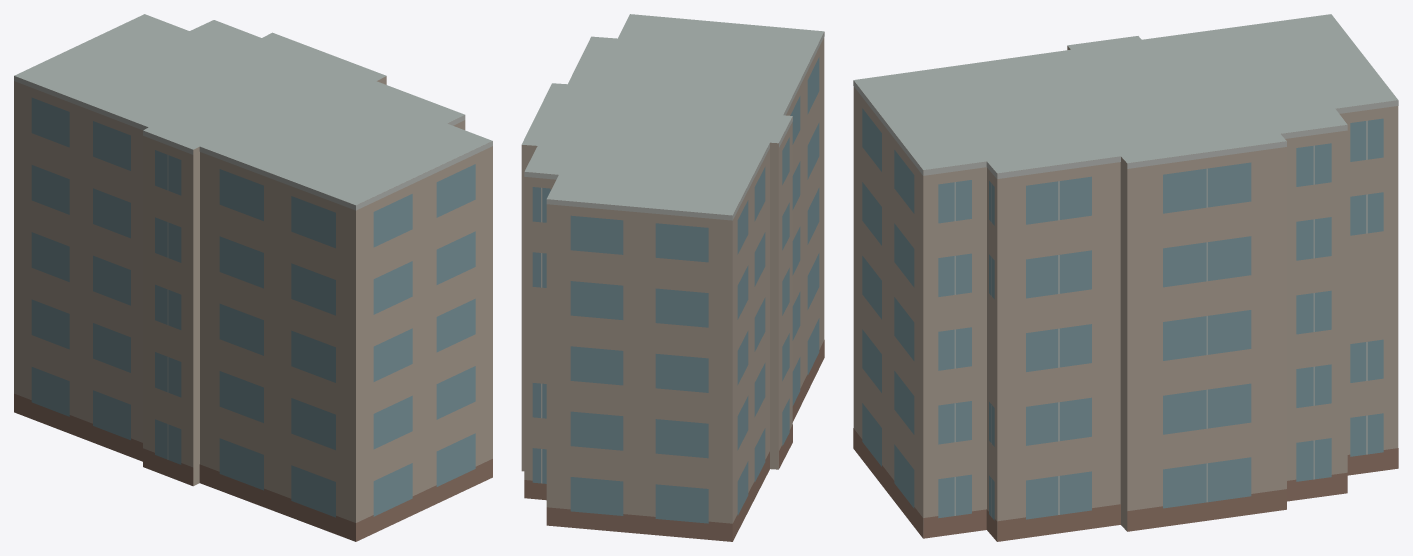
The model's file is survey-upis-32613223.glb.
3 views of the same model, side by side, from view 1: azimuth 30°, elevation 25°; view 2: azimuth 150°, elevation 25°; view 3: azimuth 270°, elevation 25° (orthographic). The views are drawn at different scales.
Parts seen in each view (by area): view 1: survey-upis-32613223.tmp; view 2: survey-upis-32613223.tmp; view 3: survey-upis-32613223.tmp.
Part boxes in pixels (bbox=[...]): survey-upis-32613223.tmp: bbox=[14, 14, 492, 541]; survey-upis-32613223.tmp: bbox=[521, 14, 824, 541]; survey-upis-32613223.tmp: bbox=[853, 14, 1398, 541].
Size of the model in its own units: 14.58 by 15.7 by 21.06.
